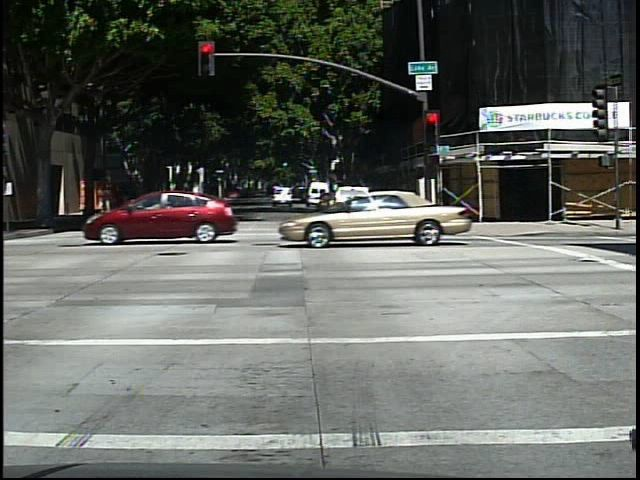person: (93, 184, 120, 214)
